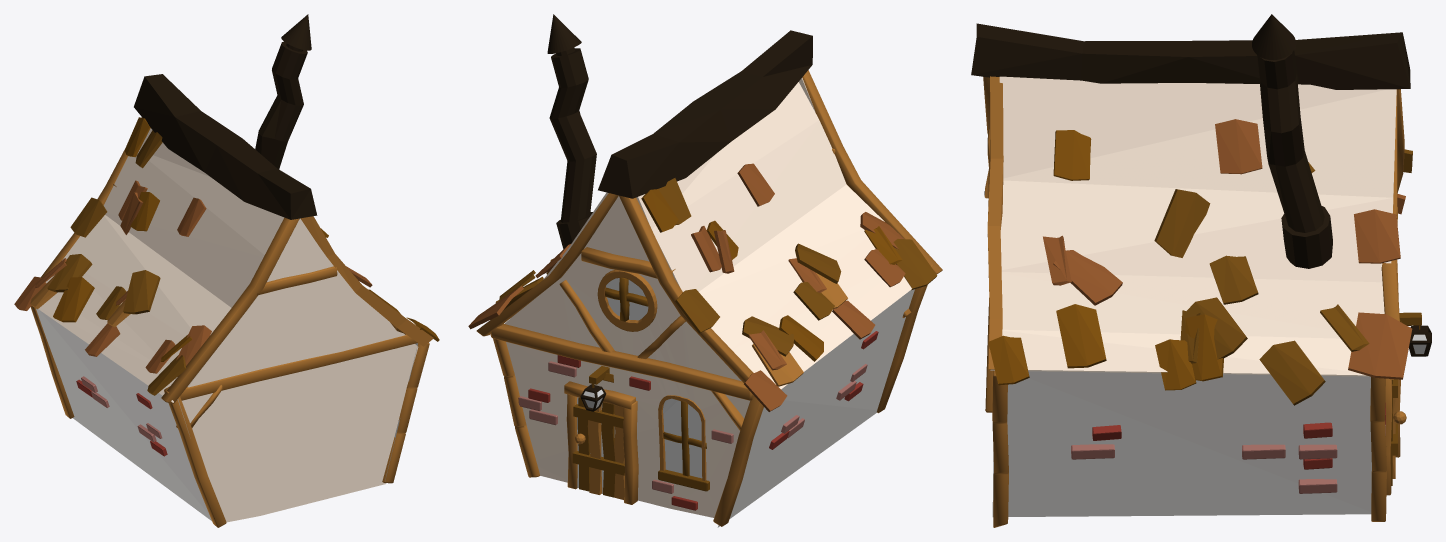
Rendered from apoth.fbx.
The picture shows the model from 3 angles, left to right: view 1: azimuth 30°, elevation 25°; view 2: azimuth 150°, elevation 25°; view 3: azimuth 270°, elevation 25°; orthographic projection. The views are drawn at different scales.
Parts seen in each view (by area): view 1: Plane, Plane.007, Plane.005, Cube.003, Cylinder.001, Cube.004, Cube.002, Cube.101, Cube.001, Cube, Cube.049, Cube.080 (+13 smaller); view 2: Plane.007, Plane.001, Plane.005, Cube.003, Cylinder.001, Cube.014, Cube.016, Cube.004, Cube.015, Cube.013, Cube.027, Cube.012 (+36 smaller); view 3: Plane.002, Plane.003, Cube.003, Cylinder.001, Cube.101, Cube.067, Cube.060, Cube.082, Cube, Cube.064, Cube.012, Cube.059 (+19 smaller).
Boxes of the visible parts, left/top/right/bottom form: Plane: left=182, top=218, right=418, bottom=522; Plane.007: left=38, top=128, right=284, bottom=402; Plane.005: left=36, top=308, right=211, bottom=520; Cube.003: left=134, top=74, right=317, bottom=219; Cylinder.001: left=255, top=41, right=307, bottom=169; Cube.004: left=161, top=217, right=299, bottom=403; Cube.002: left=180, top=334, right=417, bottom=400; Cube.101: left=300, top=216, right=433, bottom=346; Cube.001: left=164, top=386, right=226, bottom=527; Cube: left=382, top=343, right=429, bottom=483; Cube.049: left=123, top=270, right=160, bottom=314; Cube.080: left=53, top=277, right=94, bottom=322; Plane.007: left=636, top=82, right=911, bottom=389; Plane.001: left=504, top=196, right=749, bottom=517; Plane.005: left=717, top=289, right=914, bottom=527; Cube.003: left=598, top=30, right=812, bottom=198; Cylinder.001: left=549, top=47, right=596, bottom=248; Cube.014: left=490, top=324, right=752, bottom=400; Cube.016: left=619, top=195, right=753, bottom=383; Cube.004: left=802, top=70, right=942, bottom=274; Cube.015: left=476, top=193, right=618, bottom=336; Cube.013: left=713, top=394, right=763, bottom=526; Cube.027: left=663, top=398, right=702, bottom=478; Cube.012: left=493, top=338, right=540, bottom=477; Plane.002: left=990, top=76, right=1396, bottom=376; Plane.003: left=992, top=371, right=1371, bottom=516; Cube.003: left=971, top=23, right=1410, bottom=89; Cylinder.001: left=1257, top=50, right=1332, bottom=268; Cube.101: left=987, top=76, right=1003, bottom=370; Cube.067: left=1348, top=312, right=1412, bottom=379; Cube.060: left=1056, top=304, right=1106, bottom=368; Cube.082: left=1259, top=340, right=1325, bottom=405; Cube: left=992, top=370, right=1008, bottom=527; Cube.064: left=1154, top=189, right=1210, bottom=257; Cube.012: left=1370, top=377, right=1386, bottom=521; Cube.059: left=1215, top=119, right=1262, bottom=174.
Bounding box in the file's own units: 1130 × 1439 × 1138.
